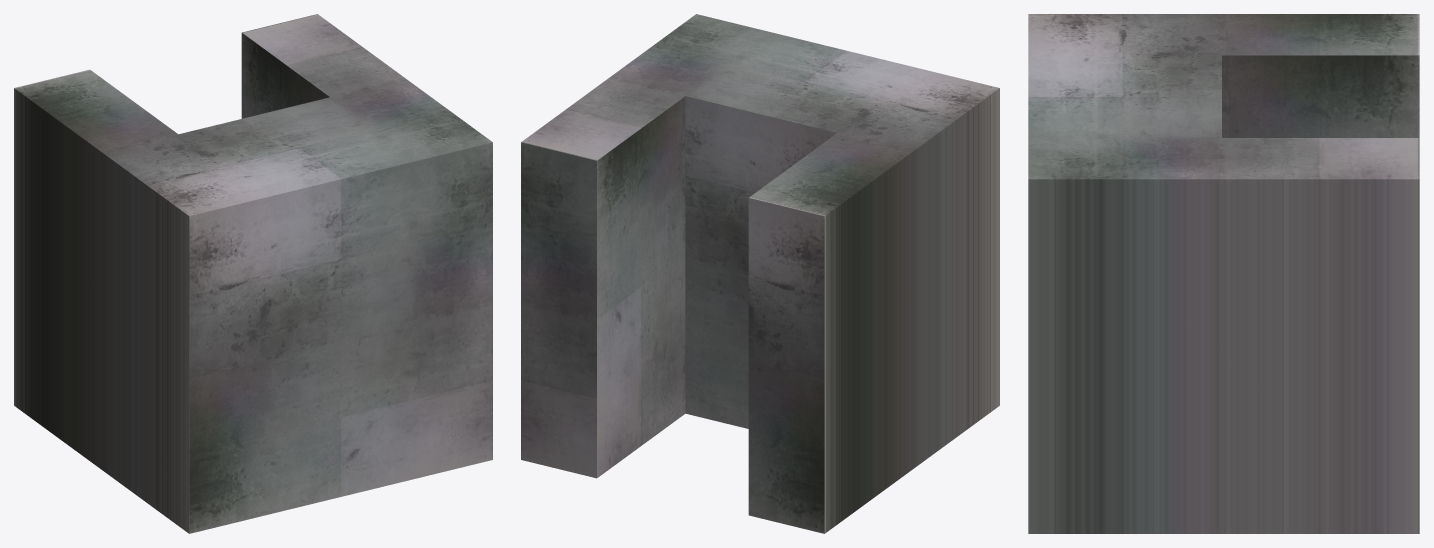
Rendered from 2x2cube1x1tunnel_wtf.obj.
3 views of the same model, side by side, from view 1: azimuth 30°, elevation 25°; view 2: azimuth 150°, elevation 25°; view 3: azimuth 270°, elevation 25° (orthographic). The views are drawn at different scales.
Parts seen in each view (by area): view 1: group2; view 2: group2; view 3: group2.
Part boxes in pixels (x1,y1,x2,y2): group2: [14, 14, 492, 533]; group2: [521, 14, 999, 533]; group2: [1028, 14, 1419, 533].
Bounding box in the file's own units: 660 × 660 × 660.
